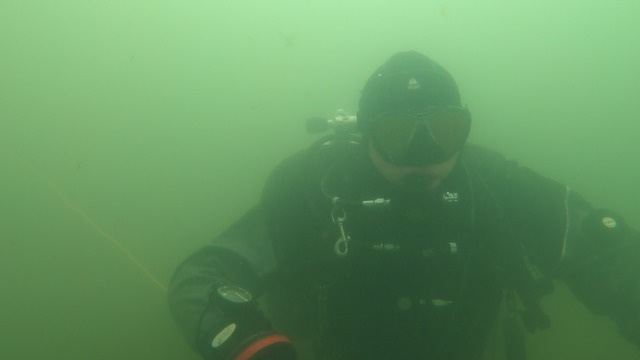Diver: (135, 32, 625, 355)
Head: (338, 35, 495, 224)
